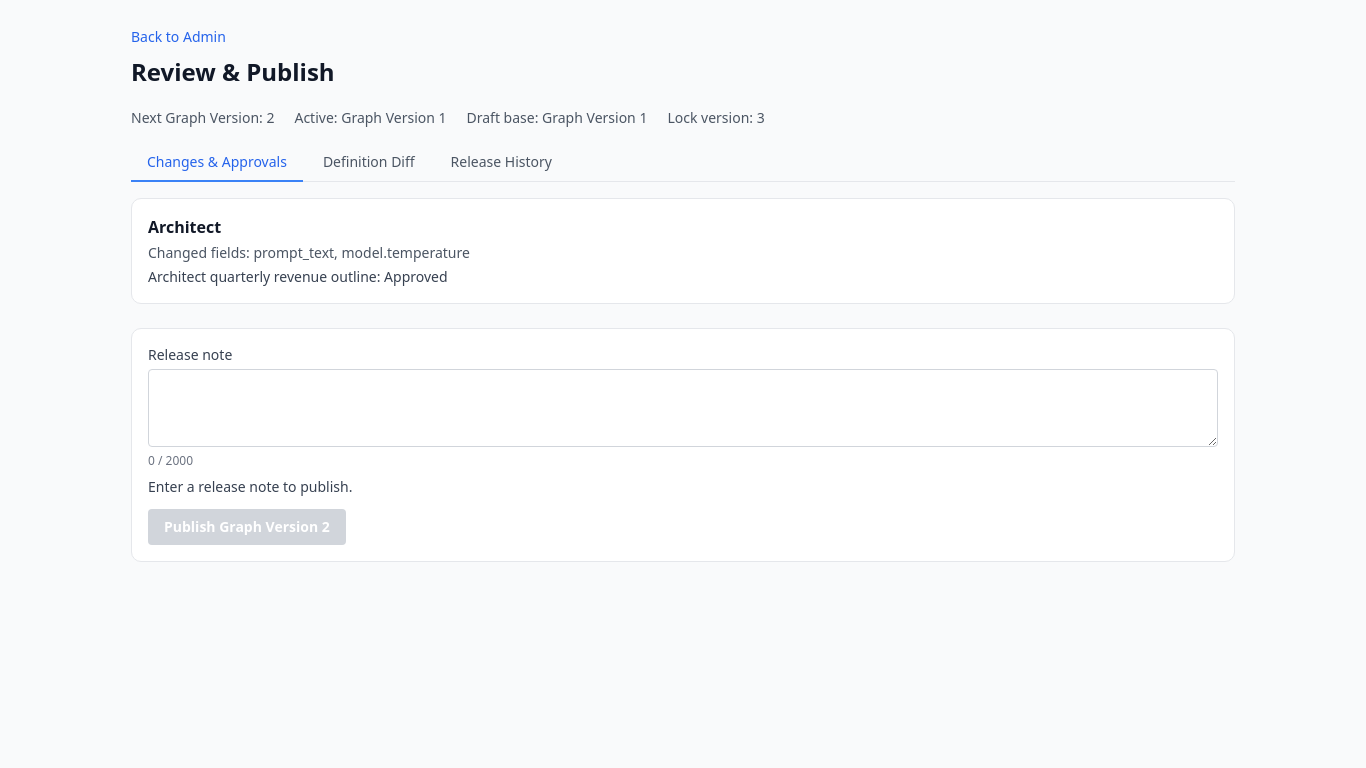
Test case: Release History: the list › renders history text as text, never as markup
Expected: the text "Next Graph Version: 2" is shown, [131,108,274,128]
Click the tab with test id "release-history-tab": (501, 163) [435,144,568,182]
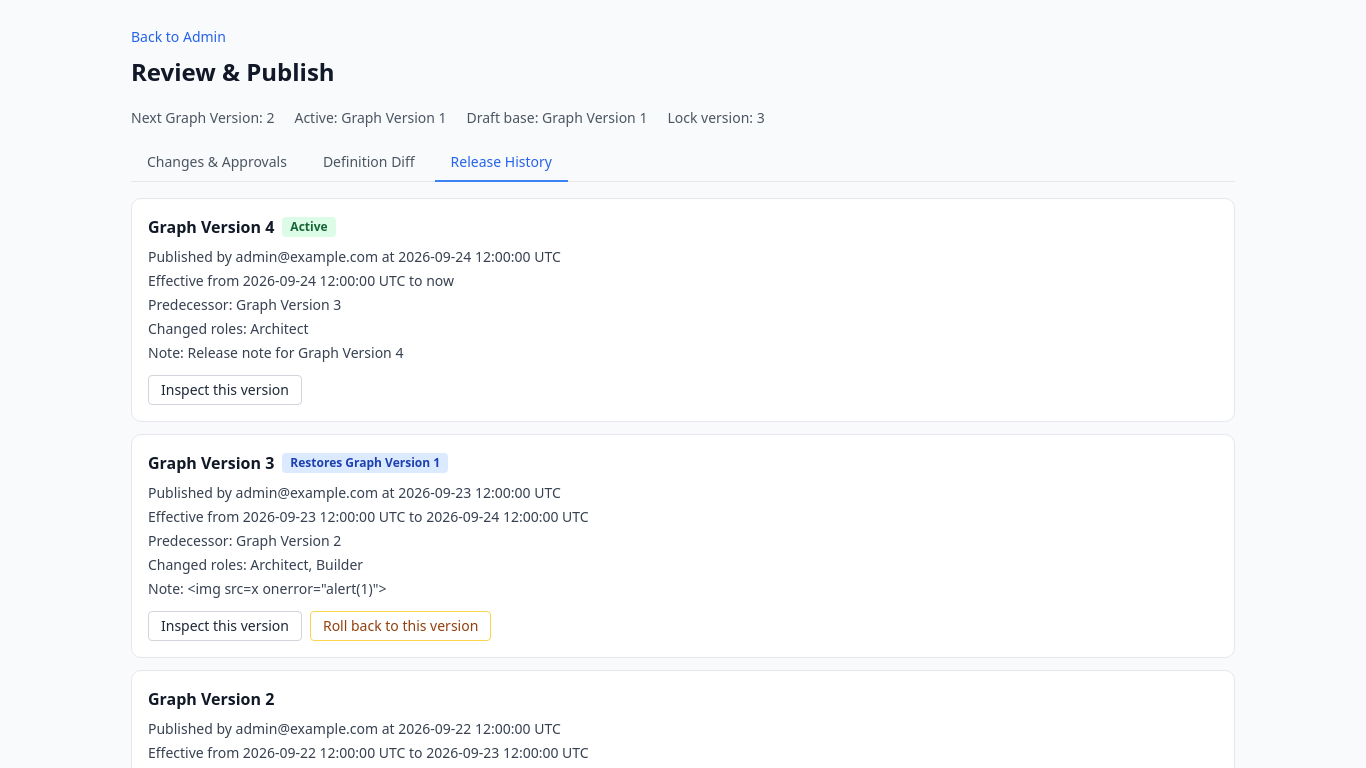
Expected: the list item with test id "release-history-row-3" shows "Note: <img src=x onerror=\"alert(1)\">", [148,579,386,598]
